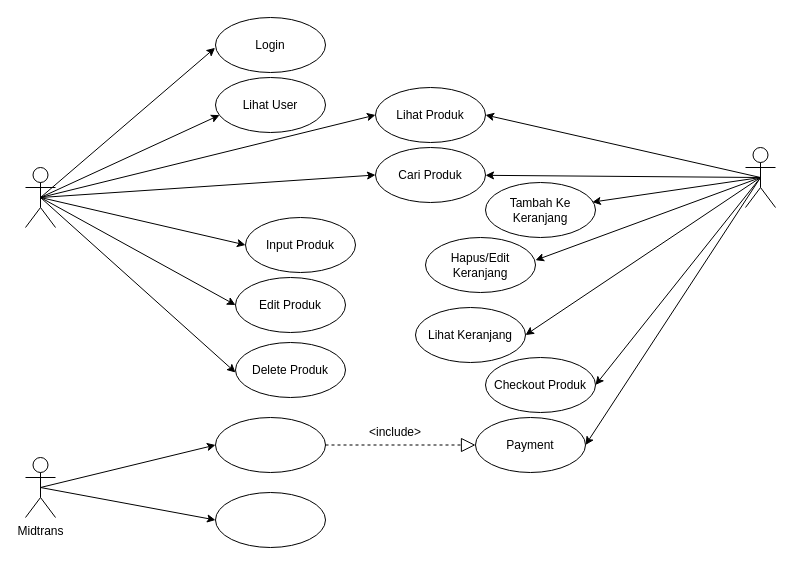
Image size: 799x565. Some labels were removed from this diagram. The shapes that lost their labels are listed below. From the top down, each one's centre as x and y in pixels, then its label:
At [40,197]: "Penjual".
At [760,177]: "Pembeli".
At [270,444]: "Membuat Tagihan".
At [270,520]: "Callback Verifikasi Pembayaran".
